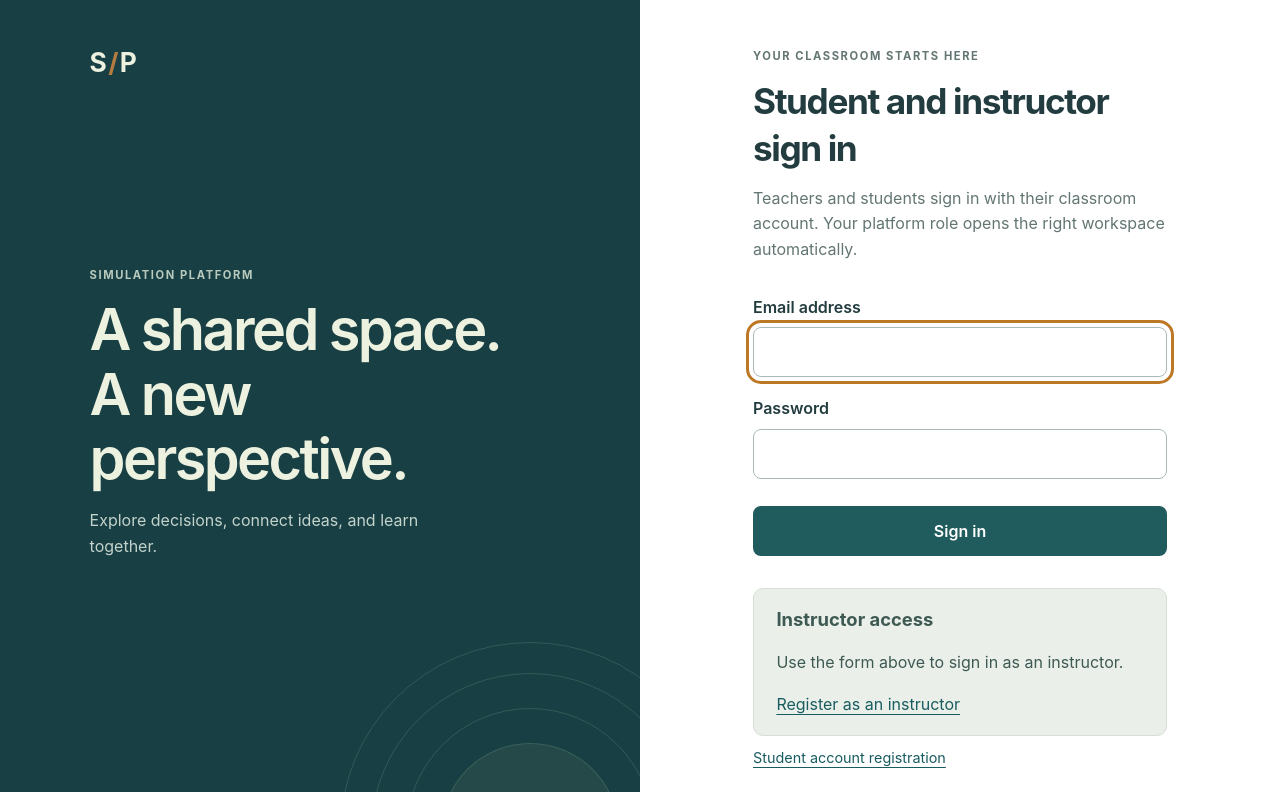
protected routes › provides accessible login errors
Type "student@example.test" into the field labelled "Email address" at (960, 352), box top-left (753, 327), bottom-right (1167, 377)
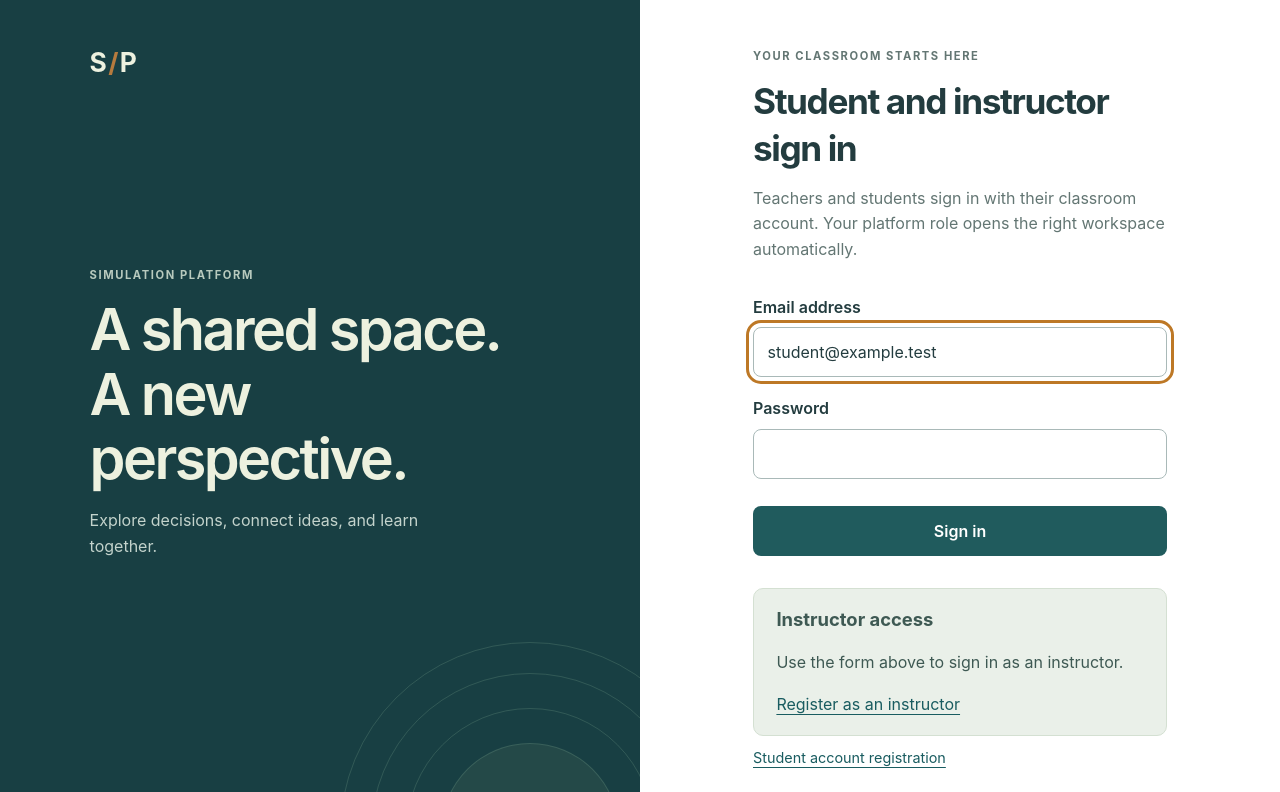
Type "incorrect" into the password field labelled "Password" at (960, 454), box top-left (753, 429), bottom-right (1167, 479)
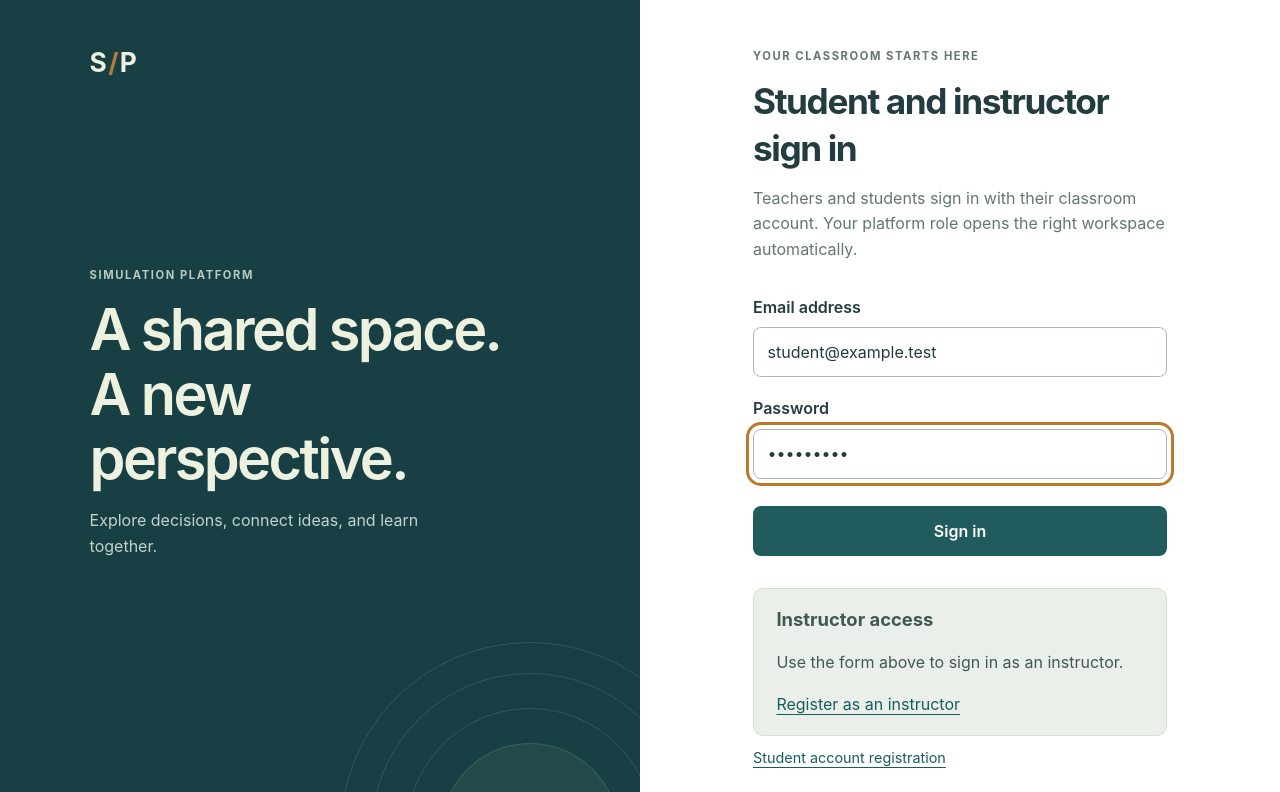
Click the button "Sign in" at (960, 531), box top-left (753, 506), bottom-right (1167, 556)
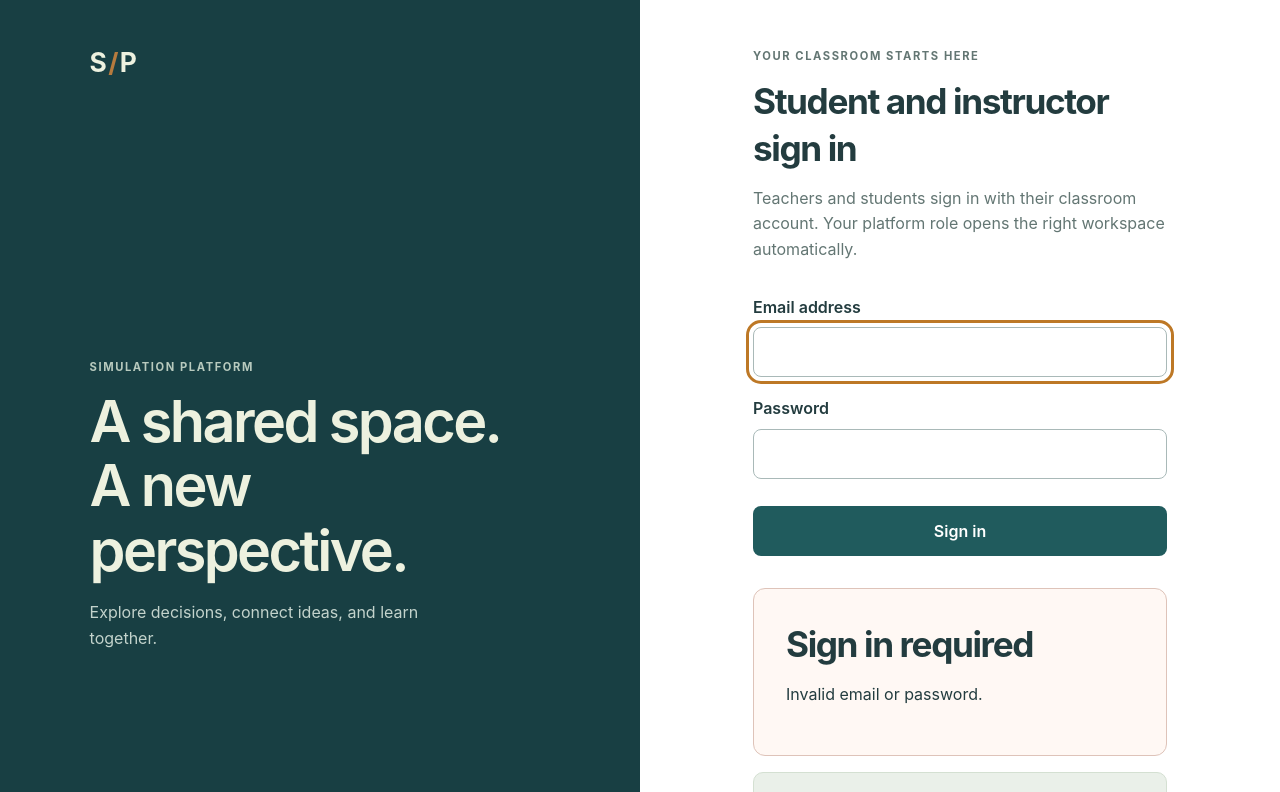
Check: the message shows "Invalid email or password.", box top-left (786, 684), bottom-right (982, 704)
